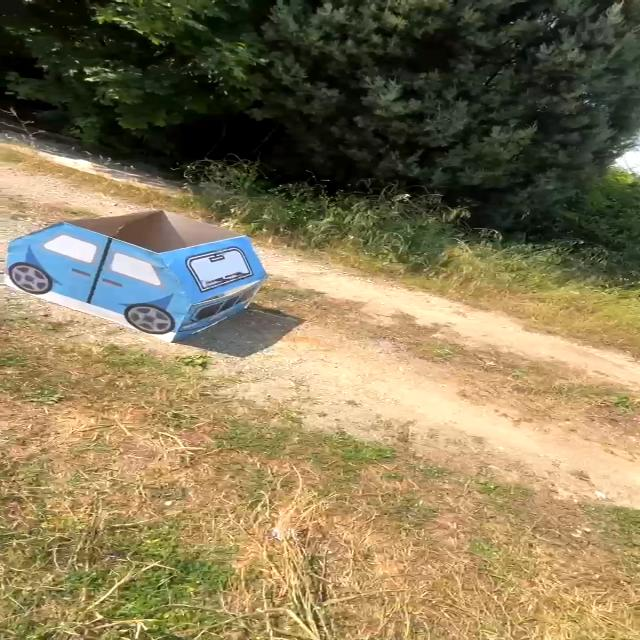blue_car: (0, 183, 292, 349)
